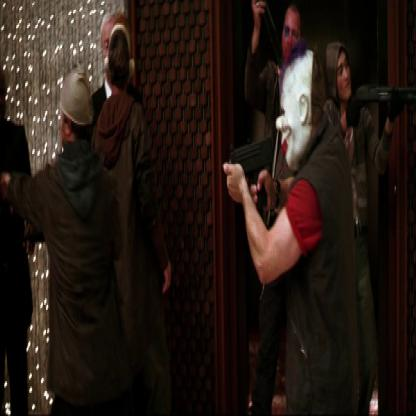Guns: (350, 71, 416, 141), (222, 128, 279, 209)
